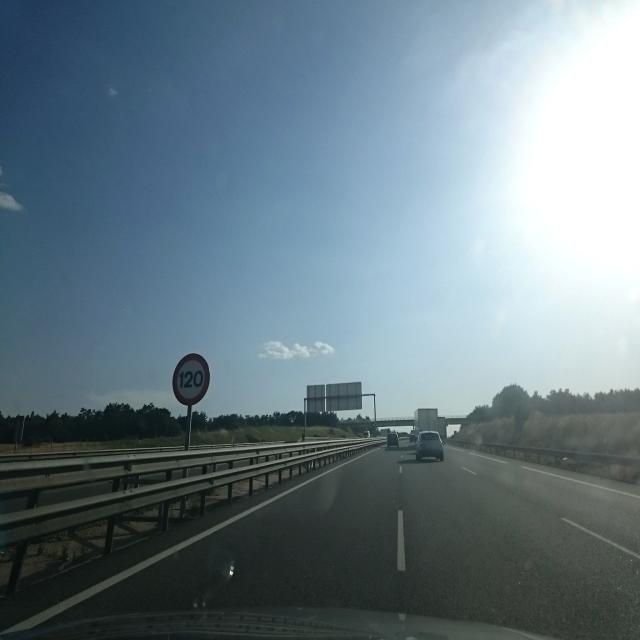car: (414, 429, 446, 463), (386, 432, 400, 449), (409, 430, 419, 444)
